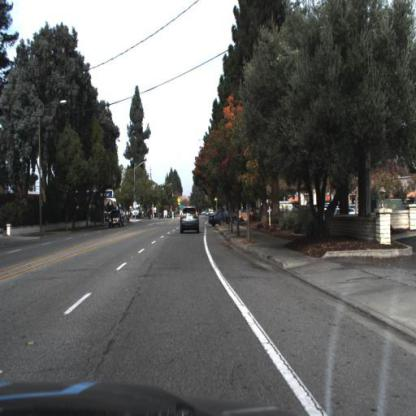car: (179, 203, 202, 236), (208, 209, 238, 228), (107, 208, 127, 234)
